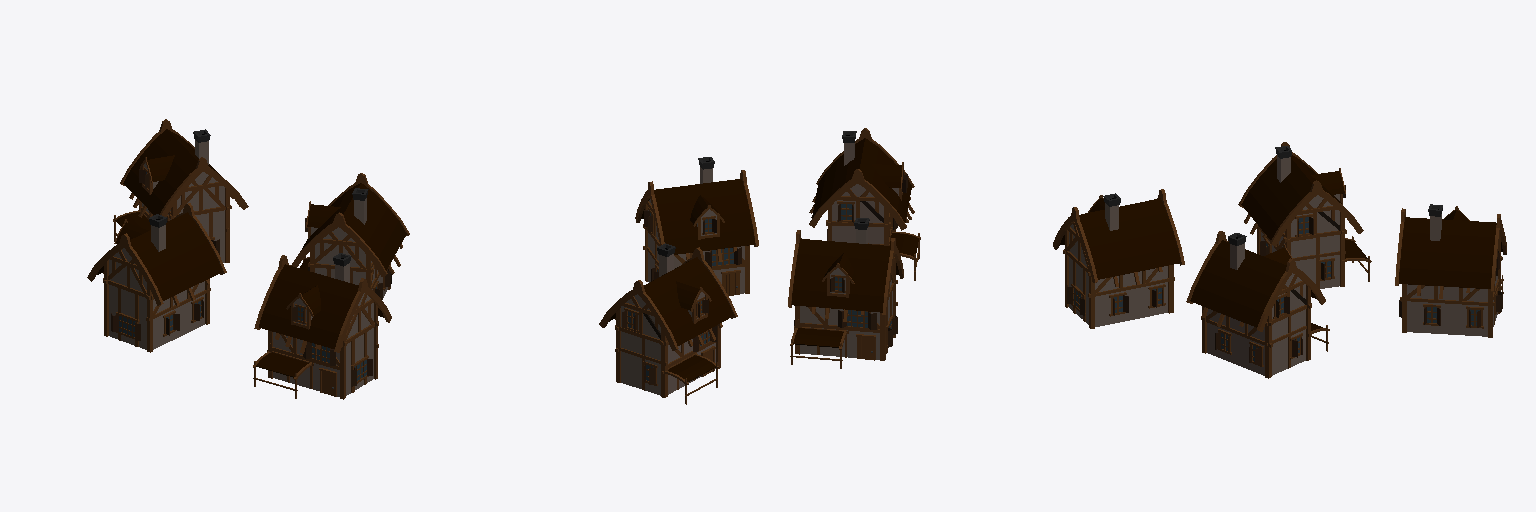
File: houses_norse.obj
The picture shows the model from 3 angles: view 1: azimuth 30°, elevation 25°; view 2: azimuth 150°, elevation 25°; view 3: azimuth 270°, elevation 25°; orthographic projection.
Parts seen in each view (by area): view 1: pCube6548.001_Untitled.002, pCube6453.001_Untitled.000, pCube6548_Untitled.009, pCube6453.002_Untitled.001; view 2: pCube6548_Untitled.009, pCube6453.001_Untitled.000, pCube6453.002_Untitled.001, pCube6548.001_Untitled.002; view 3: pCube6453.002_Untitled.001, pCube6548.001_Untitled.002, pCube6548_Untitled.009, pCube6453.001_Untitled.000.
Part boxes in pixels (left/top/right/bottom): pCube6548.001_Untitled.002: left=253, top=253, right=391, bottom=399; pCube6453.001_Untitled.000: left=87, top=203, right=226, bottom=352; pCube6548_Untitled.009: left=113, top=119, right=248, bottom=262; pCube6453.002_Untitled.001: left=291, top=173, right=409, bottom=299; pCube6548_Untitled.009: left=599, top=243, right=737, bottom=404; pCube6453.001_Untitled.000: left=788, top=218, right=903, bottom=368; pCube6453.002_Untitled.001: left=635, top=157, right=758, bottom=295; pCube6548.001_Untitled.002: left=809, top=128, right=920, bottom=280; pCube6453.002_Untitled.001: left=1186, top=231, right=1329, bottom=378; pCube6548.001_Untitled.002: left=1053, top=189, right=1184, bottom=328; pCube6548_Untitled.009: left=1395, top=204, right=1506, bottom=337; pCube6453.001_Untitled.000: left=1238, top=142, right=1371, bottom=288.
Bounding box in the file's own units: 31.75 × 12.69 × 43.63.